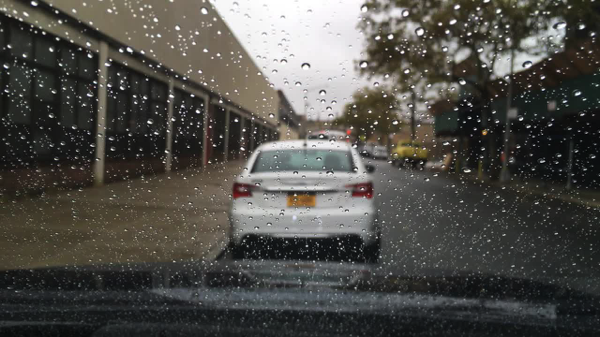car: (229, 139, 380, 264), (306, 131, 349, 143), (370, 147, 387, 160), (363, 140, 372, 156), (357, 143, 362, 154)
traffic sign: (504, 134, 514, 149)
truck: (391, 140, 426, 168)
